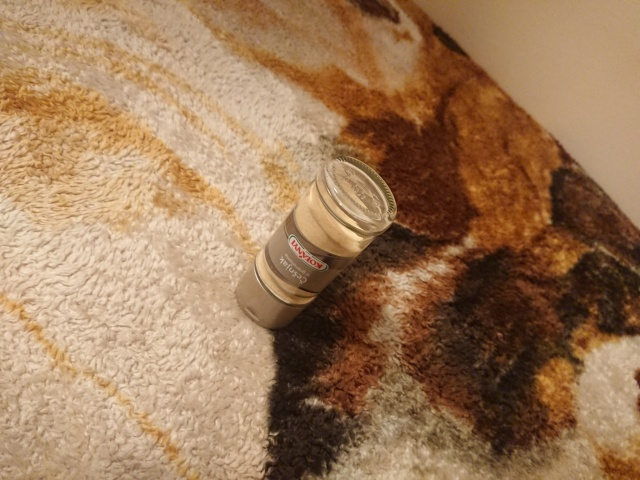Kotanyi Garlic Granules 70g: (232, 152, 400, 335)
